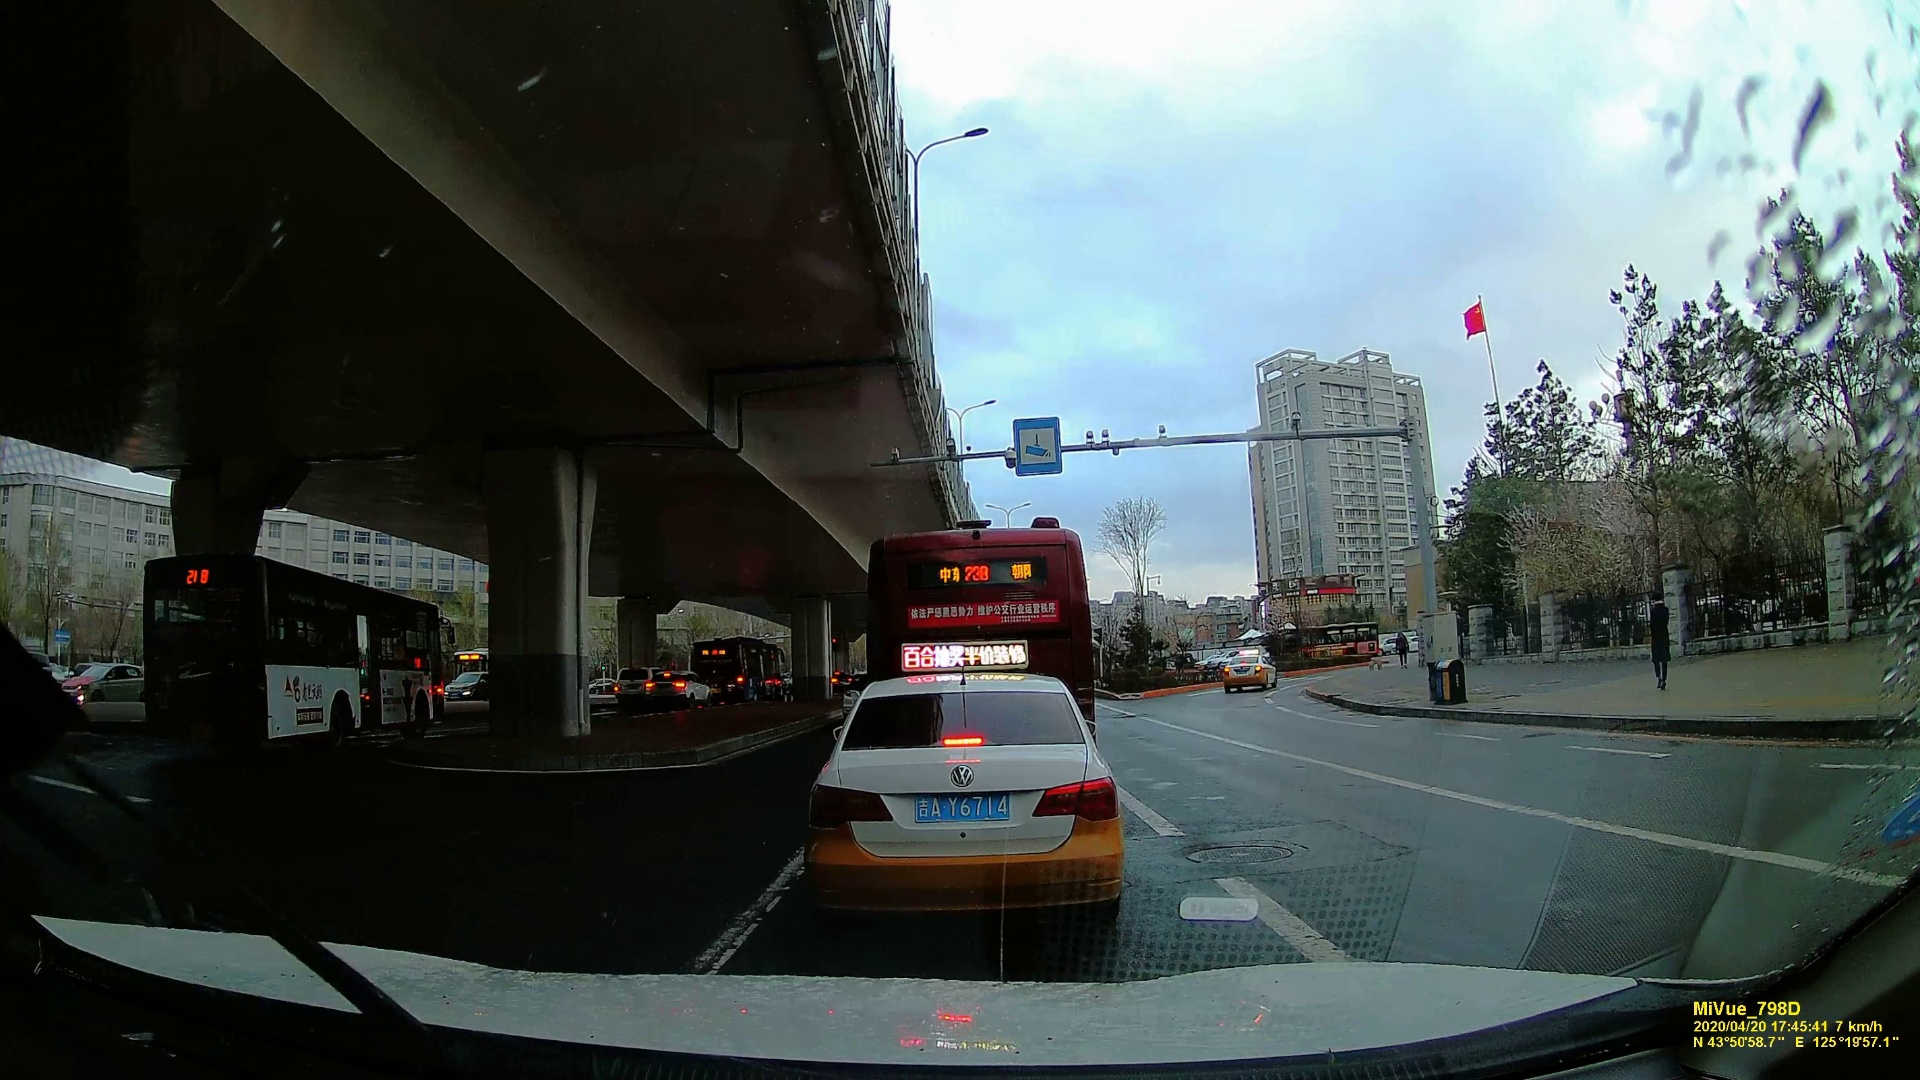bus: (145, 554, 449, 752), (880, 519, 1085, 670), (685, 642, 793, 712), (1273, 624, 1371, 664)
person: (1643, 584, 1673, 690), (1390, 630, 1410, 676)
traffic_sign: (1013, 416, 1064, 474)
vehicle: (811, 661, 1126, 909), (55, 655, 149, 724), (1223, 655, 1275, 692)
